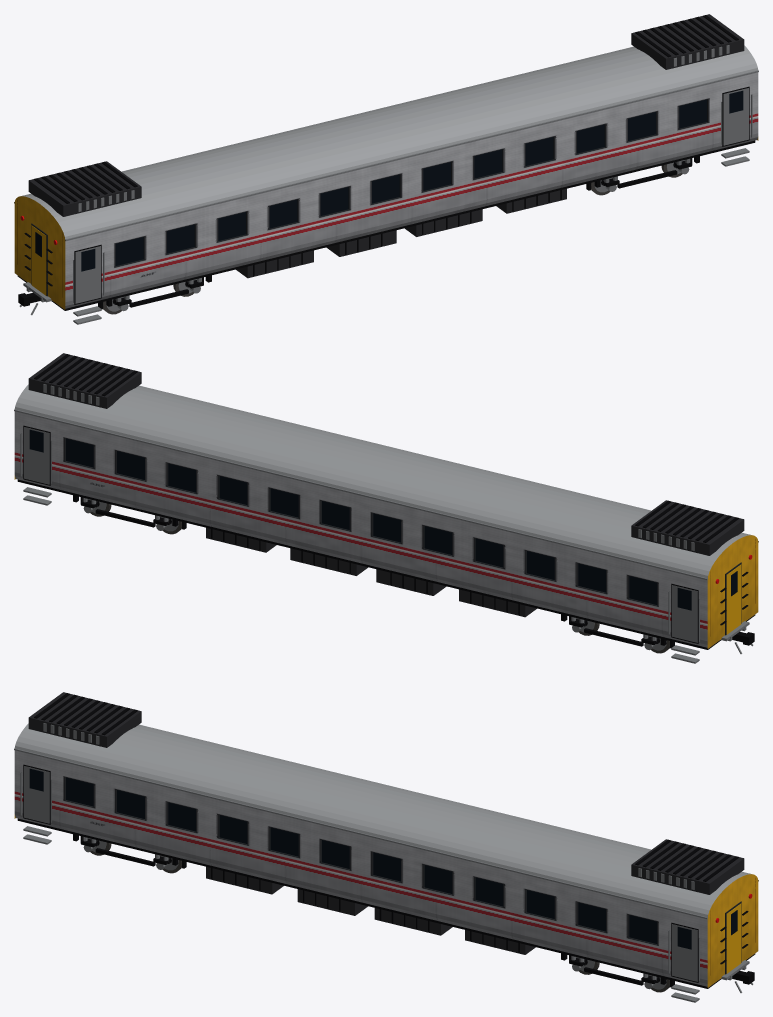
Rendered from cnr_anf.glb.
3 renders of one model, top to bottom at view 1: azimuth 30°, elevation 25°; view 2: azimuth 150°, elevation 25°; view 3: azimuth 330°, elevation 25°, orthographic.
Parts seen in each view (by area): view 1: CNR_ANF; view 2: CNR_ANF; view 3: CNR_ANF.
Boxes of the visible parts, x1,y1,x2,y2 form: CNR_ANF: [14, 14, 758, 324]; CNR_ANF: [14, 353, 758, 663]; CNR_ANF: [14, 692, 758, 1002].
Size of the model in its own units: 24.24 by 4.11 by 3.12.
10 materials, 1 textured.
